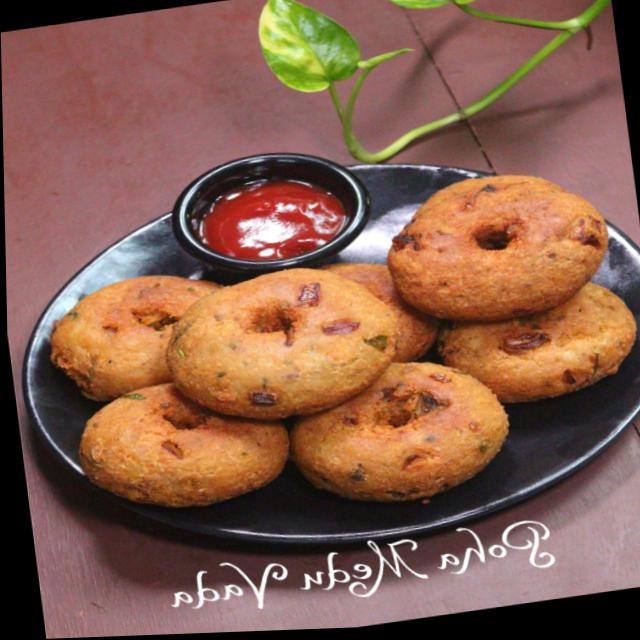SAUCE: (194, 175, 342, 265)
VADA: (50, 174, 640, 511)
